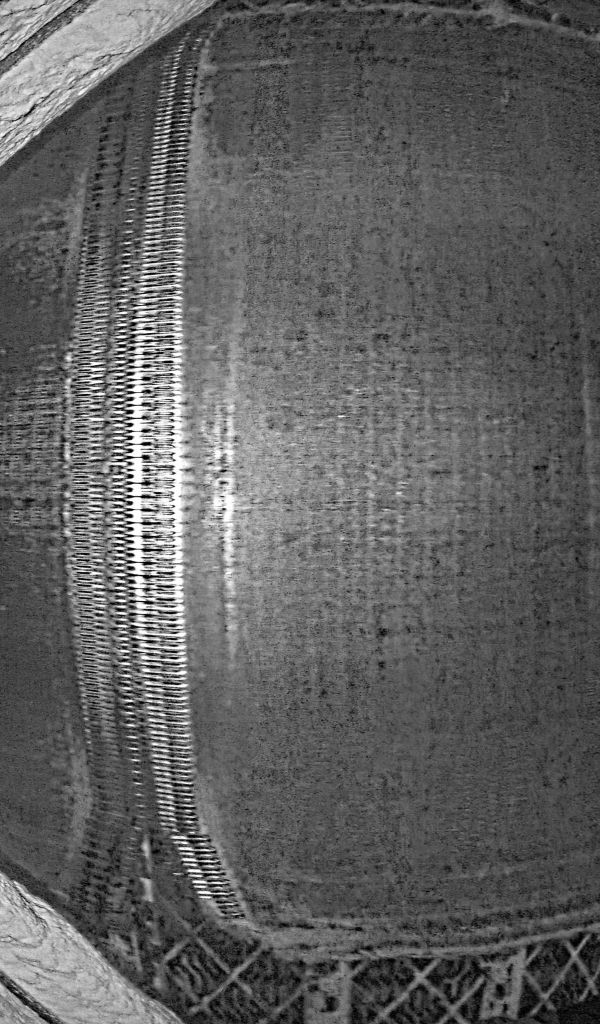damage: (67, 810, 254, 931)
splice: (66, 14, 257, 933)
